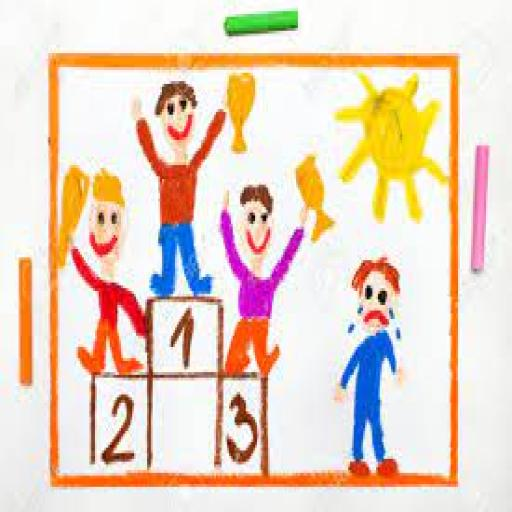person: (124, 77, 227, 303), (52, 160, 153, 380), (327, 254, 424, 482), (218, 175, 306, 388)
